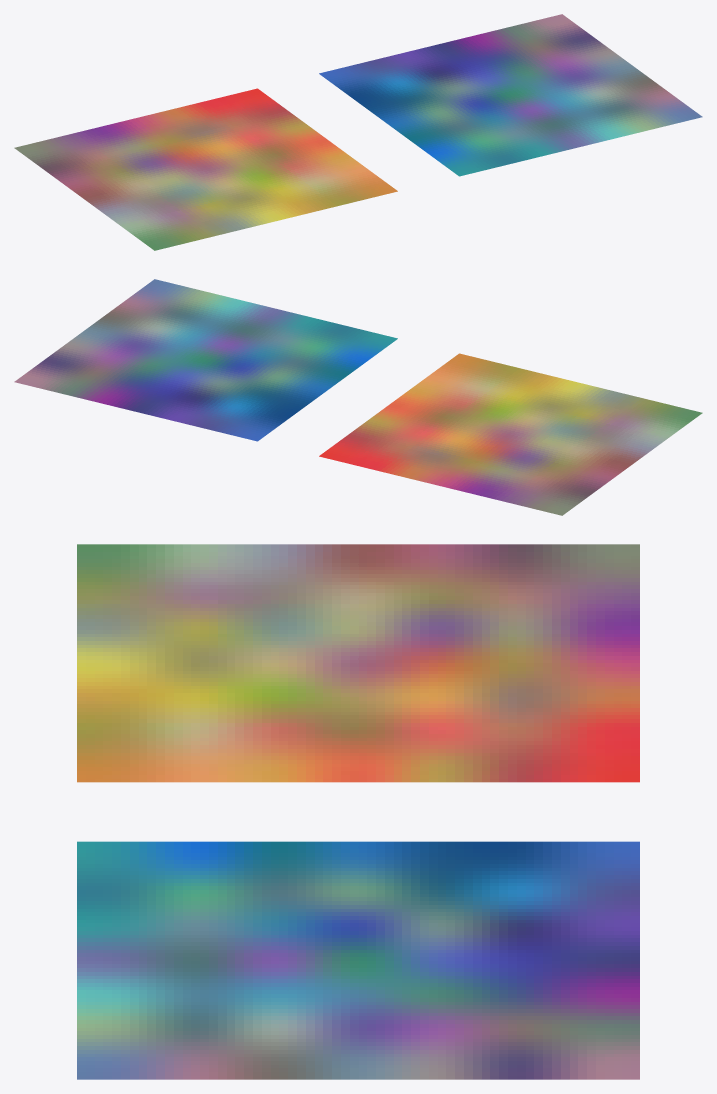
File: human_male.glb
3 views of the same model, one above another, from view 1: azimuth 30°, elevation 25°; view 2: azimuth 150°, elevation 25°; view 3: azimuth 270°, elevation 25° (orthographic). The views are drawn at different scales.
Visible parts, largest first — view 1: Fixture_body, Fixture_race_eyes; view 2: Fixture_body, Fixture_race_eyes; view 3: Fixture_body, Fixture_race_eyes.
Part boxes in pixels (left/top/right/bottom): Fixture_body: left=14, top=88, right=397, bottom=250; Fixture_race_eyes: left=319, top=14, right=702, bottom=176; Fixture_body: left=319, top=353, right=702, bottom=515; Fixture_race_eyes: left=14, top=279, right=397, bottom=441; Fixture_body: left=77, top=544, right=639, bottom=782; Fixture_race_eyes: left=77, top=841, right=639, bottom=1079.
Size of the model in its own units: 4.5 by 0 by 2.
Materials: 2 (2 with a texture image).
